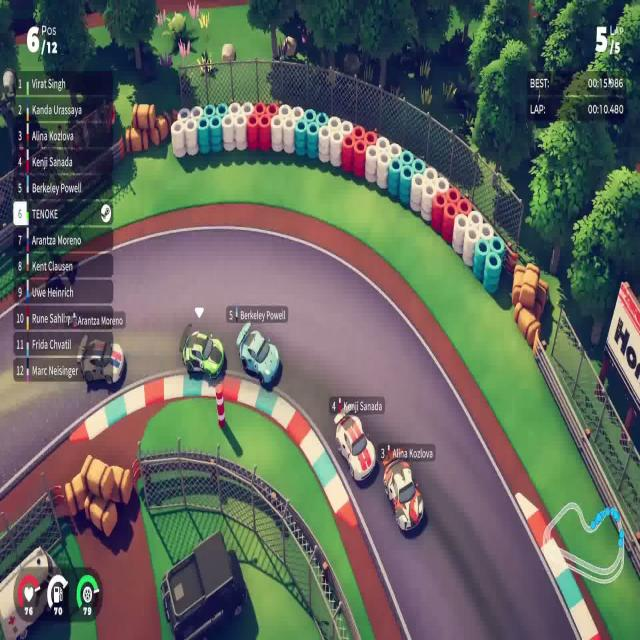car: (382, 455, 424, 534), (333, 411, 376, 484), (235, 321, 280, 387), (79, 336, 124, 386), (182, 329, 224, 380)
